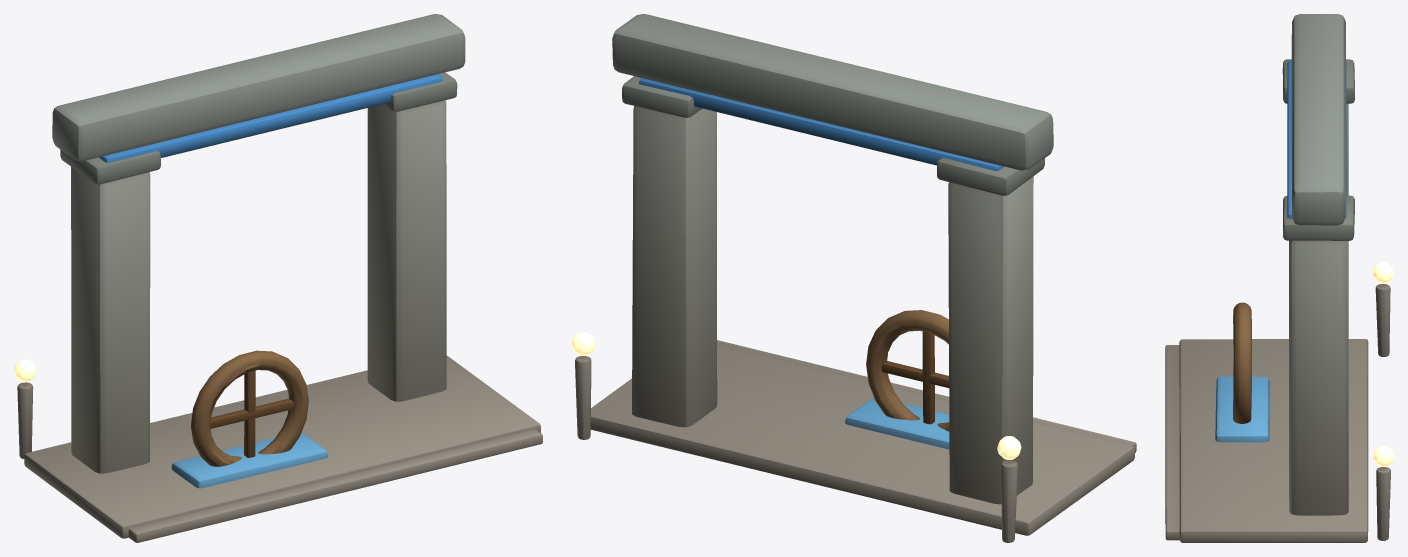
3 views of the same model, side by side, from view 1: azimuth 30°, elevation 25°; view 2: azimuth 150°, elevation 25°; view 3: azimuth 270°, elevation 25° (orthographic). The views are drawn at different scales.
Parts seen in each view (by area): view 1: gate_e46978ca; view 2: gate_e46978ca; view 3: gate_e46978ca.
Part boxes in pixels (box(x1,y1,x2,y2)): gate_e46978ca: box(14, 14, 542, 542); gate_e46978ca: box(571, 14, 1136, 542); gate_e46978ca: box(1165, 14, 1393, 542).
Size of the model in its own units: 5.11 by 4.27 by 2.55.
